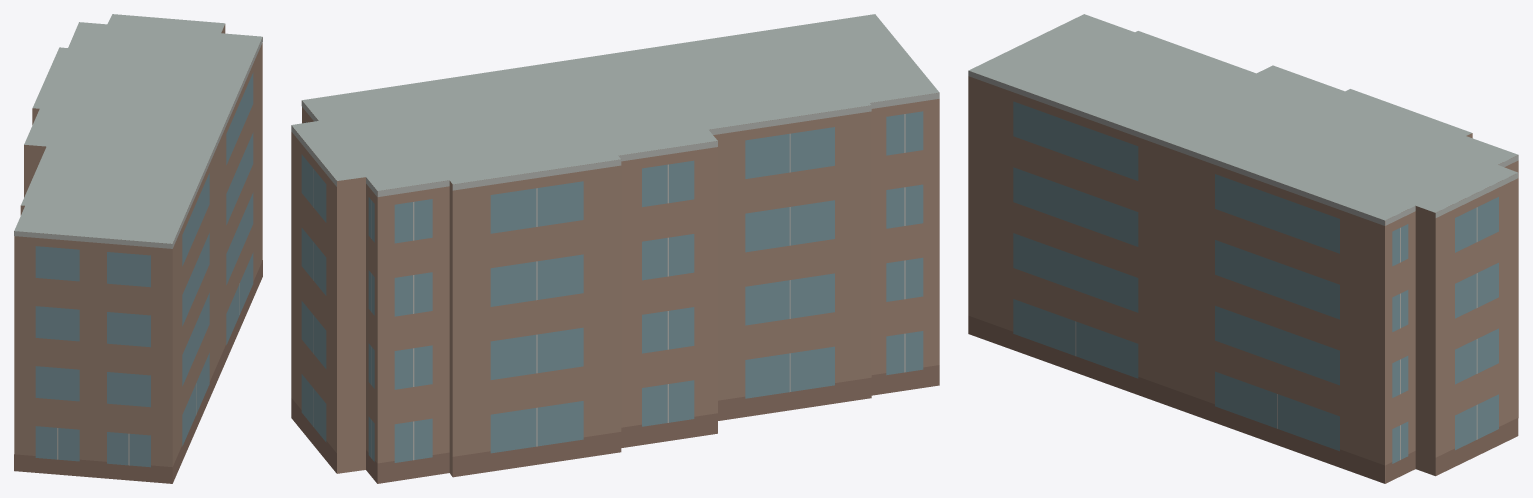
File: survey-upis-32523581.glb
3 views of the same model, side by side, from view 1: azimuth 30°, elevation 25°; view 2: azimuth 150°, elevation 25°; view 3: azimuth 270°, elevation 25° (orthographic). The views are drawn at different scales.
Visible parts, largest first — view 1: survey-upis-32523581.tmp; view 2: survey-upis-32523581.tmp; view 3: survey-upis-32523581.tmp.
Boxes of the visible parts, box(x1,y1,x2,y2) form: survey-upis-32523581.tmp: box(14, 14, 262, 483); survey-upis-32523581.tmp: box(291, 14, 939, 483); survey-upis-32523581.tmp: box(968, 14, 1518, 483).
Size of the model in its own units: 19.52 by 11.6 by 21.97.
